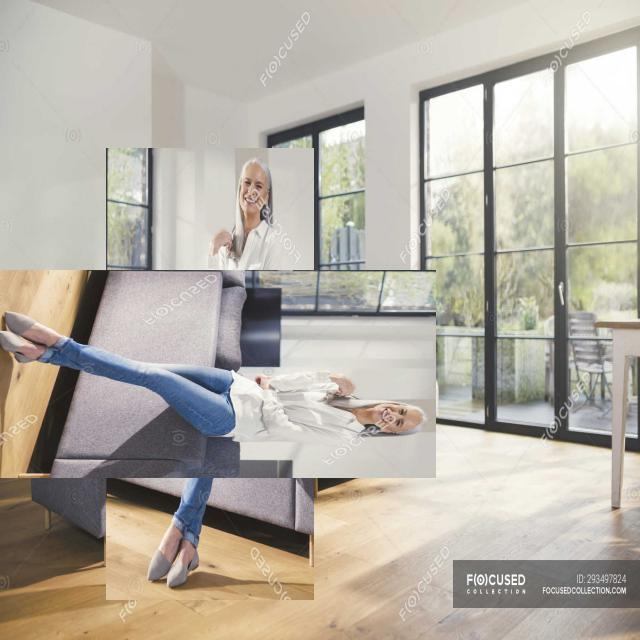NotFall: (14, 246, 485, 524)
